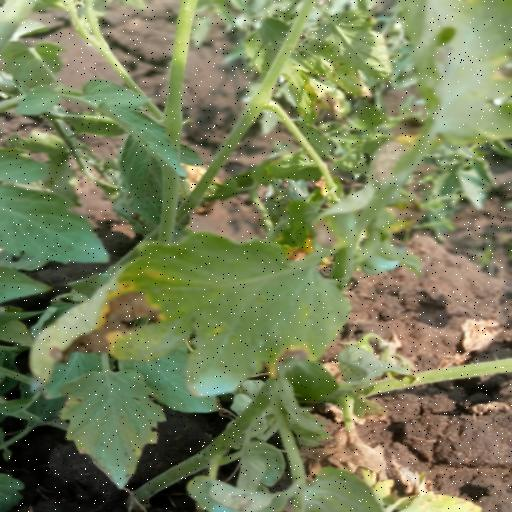Tomato_Brown_Spots: (34, 232, 354, 398), (51, 369, 169, 494)
